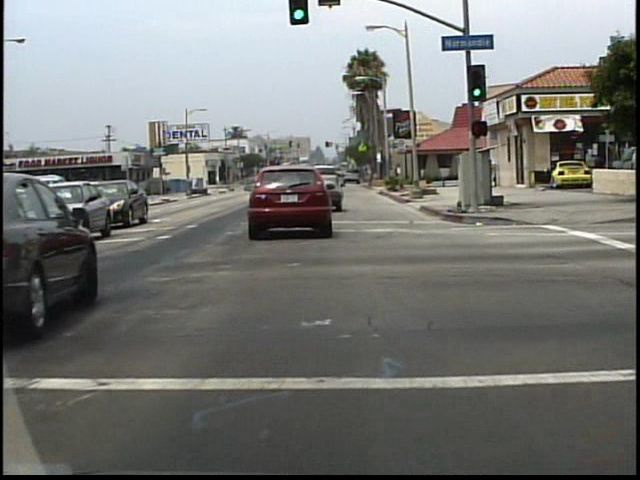person: (590, 149, 607, 194)
